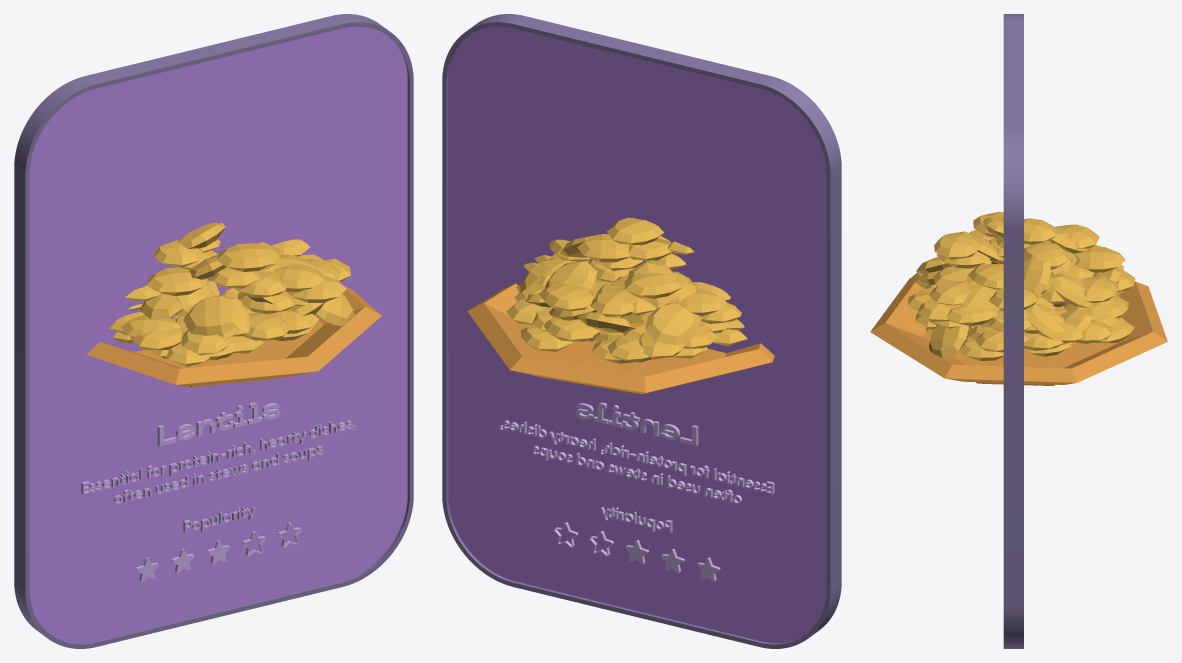
The model's file is lentils.gltf.
3 views of the same model, side by side, from view 1: azimuth 30°, elevation 25°; view 2: azimuth 150°, elevation 25°; view 3: azimuth 270°, elevation 25° (orthographic). The views are drawn at different scales.
Visible parts, largest first — view 1: Mesh_990.002, bowl of cereal.002, Mesh_2374.002, Mesh_1964.002, Mesh_2170.002, Mesh_2640.001; view 2: Mesh_990.002, bowl of cereal.002, Mesh_2374.002, Mesh_1964.002, Mesh_2170.002, Mesh_2640.001; view 3: bowl of cereal.002, Mesh_2374.002.
Boxes of the visible parts, bbox=[...] form: Mesh_990.002: bbox=[29, 26, 407, 643]; bowl of cereal.002: bbox=[86, 222, 381, 387]; Mesh_2374.002: bbox=[14, 14, 413, 648]; Mesh_1964.002: bbox=[81, 420, 356, 532]; Mesh_2170.002: bbox=[157, 402, 280, 446]; Mesh_2640.001: bbox=[135, 522, 302, 582]; Mesh_990.002: bbox=[448, 26, 826, 643]; bowl of cereal.002: bbox=[467, 217, 774, 394]; Mesh_2374.002: bbox=[442, 14, 841, 648]; Mesh_1964.002: bbox=[499, 420, 774, 532]; Mesh_2170.002: bbox=[575, 402, 698, 446]; Mesh_2640.001: bbox=[553, 522, 720, 582]; bowl of cereal.002: bbox=[870, 211, 1167, 385]; Mesh_2374.002: bbox=[1003, 14, 1023, 648].
Size of the model in its own units: 0.3625 by 0.5019 by 0.2646.
Materials: 31 (27 with a texture image).
